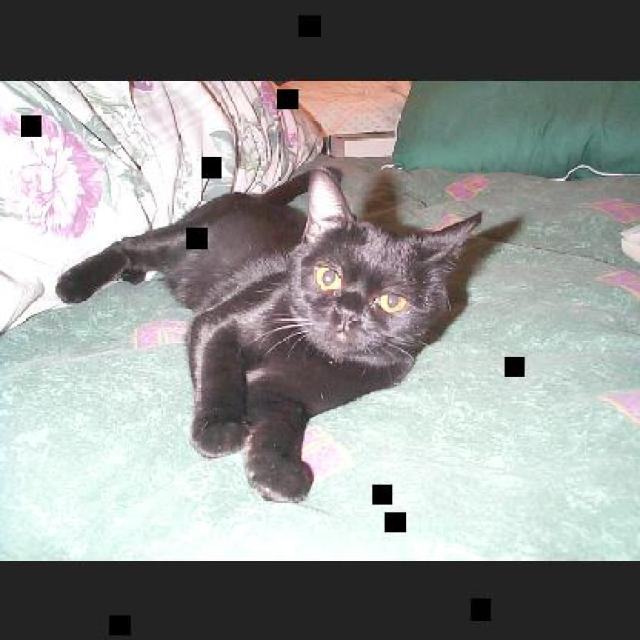unauthorized: (54, 165, 512, 503)
